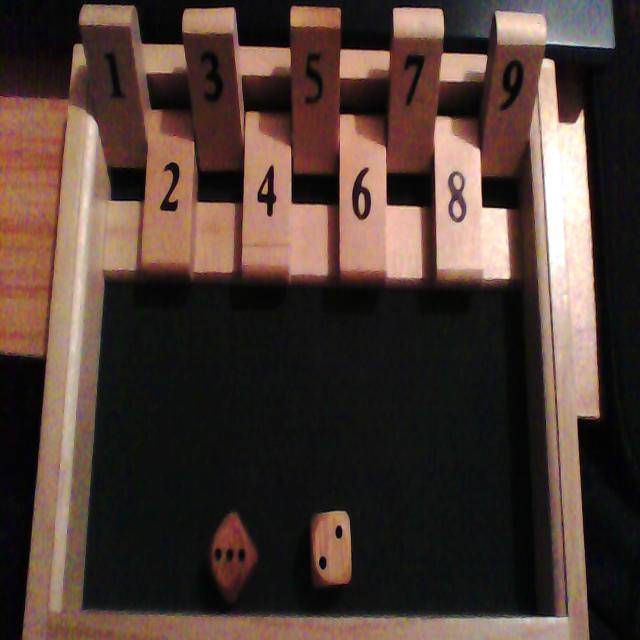2: (304, 499, 359, 594)
3: (202, 503, 259, 606)
C2: (142, 44, 188, 267)
C4: (242, 48, 289, 278)
C6: (340, 50, 387, 276)
C8: (439, 53, 482, 278)
O1: (79, 5, 134, 271)
O3: (182, 14, 238, 271)
O5: (291, 8, 340, 273)
O7: (389, 10, 443, 280)
O9: (484, 12, 546, 280)
